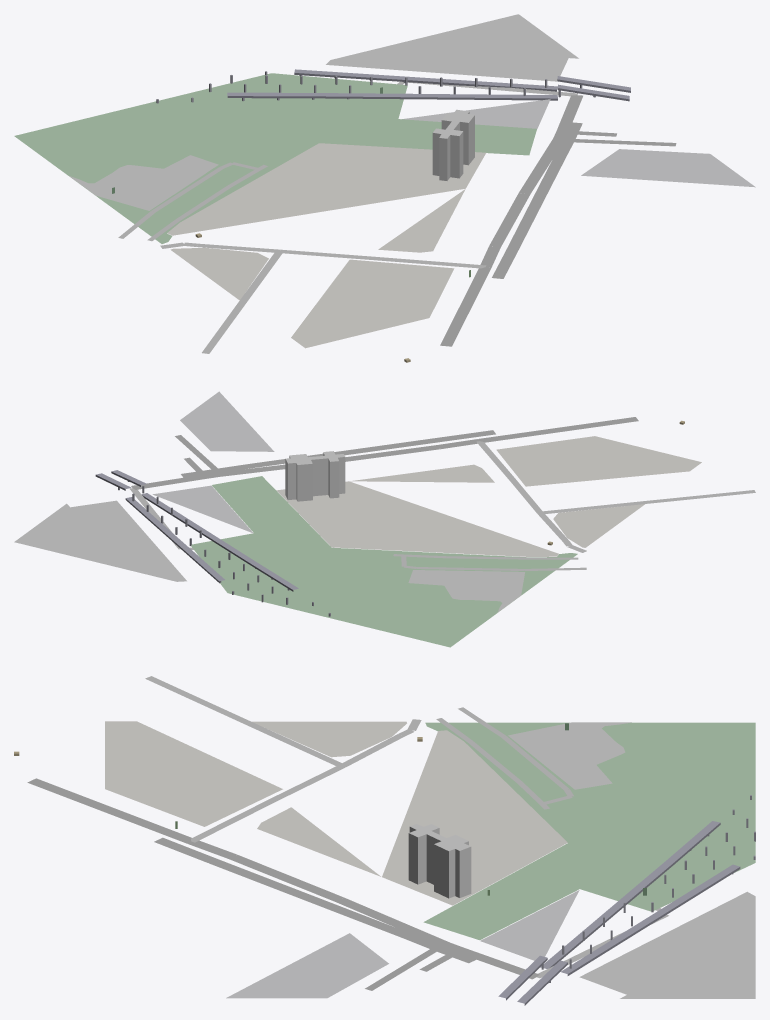
3 views of the same model, one above another, from view 1: azimuth 30°, elevation 25°; view 2: azimuth 150°, elevation 25°; view 3: azimuth 270°, elevation 25° (orthographic). The views are drawn at different scales.
Size of the model in its own units: 591 by 43.36 by 570.
